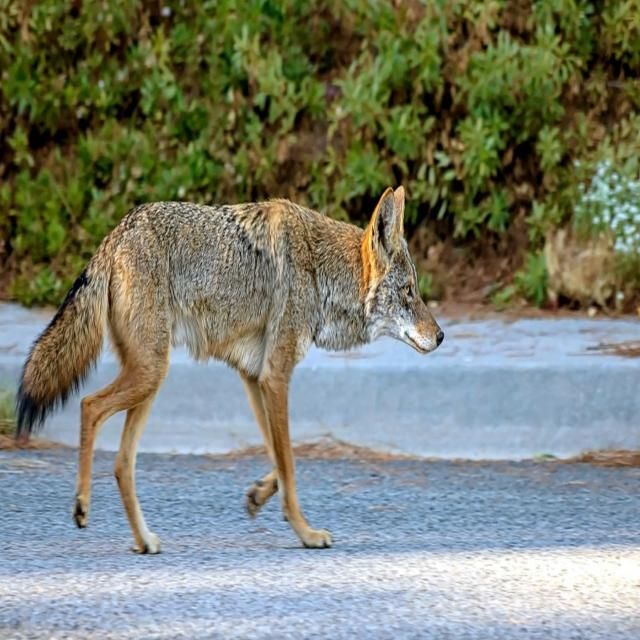coyote: (16, 186, 444, 553)
